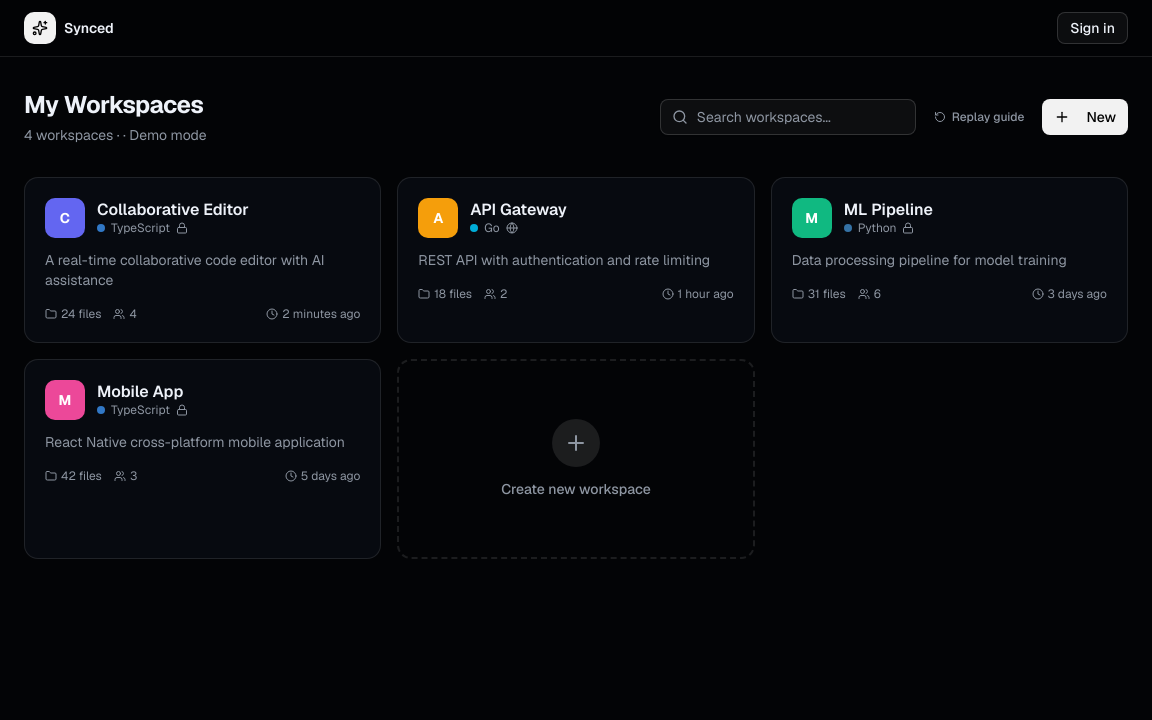
Test: Dashboard Page › filters workspaces by search
Type "API" into the field with placeholder "Search workspaces..." at x=788, y=117, box [660,99,916,135]
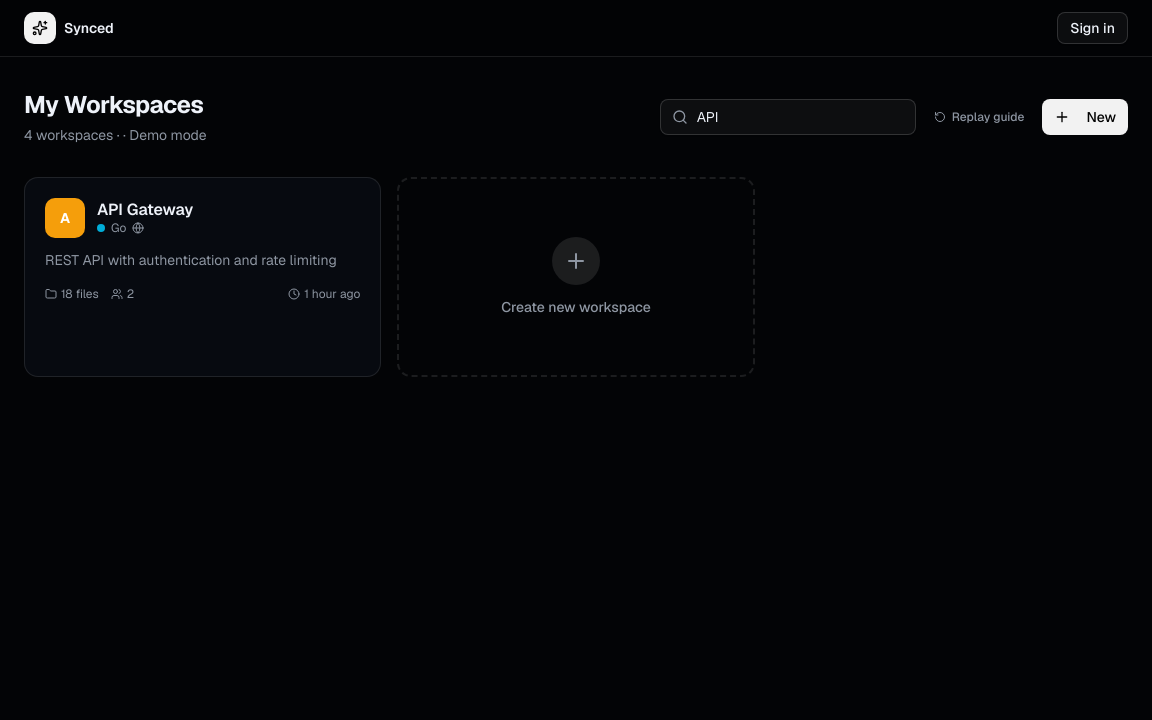
Expected: the heading "API Gateway" is shown, [97,200,194,220]
Now the heading "ML Pipeline" is gone
